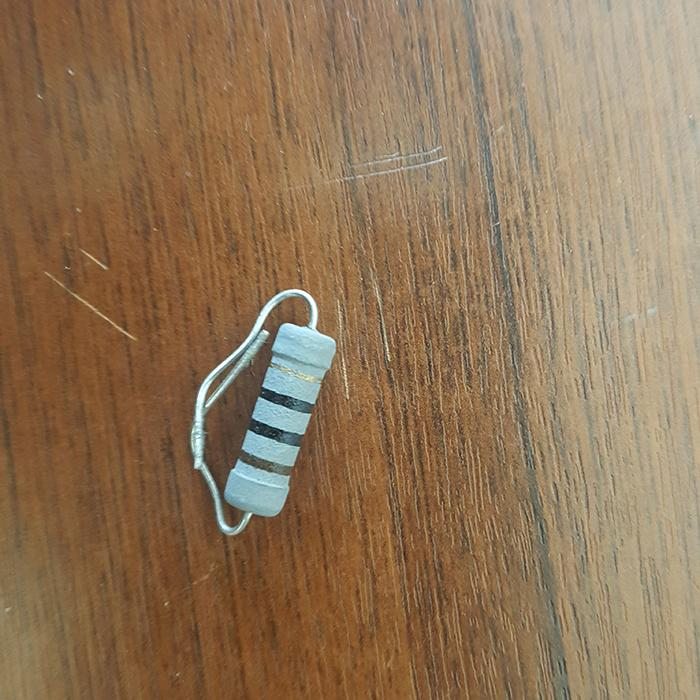resistor: (222, 320, 338, 516)
